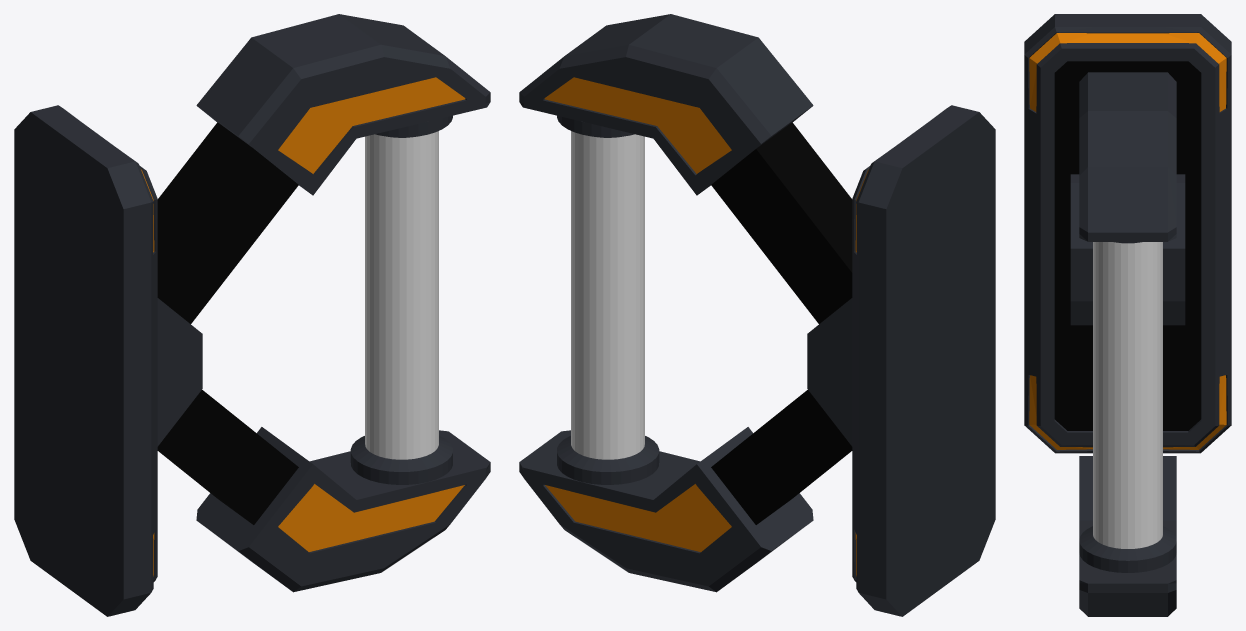
The model's file is SM_Light.fbx.
The picture shows the model from 3 angles, left to right: view 1: azimuth 30°, elevation 25°; view 2: azimuth 150°, elevation 25°; view 3: azimuth 270°, elevation 25°; orthographic projection. The views are drawn at different scales.
Visible parts, largest first — view 1: SM_Light; view 2: SM_Light; view 3: SM_Light.
Boxes of the visible parts, x1,y1,x2,y2 form: SM_Light: (14, 14, 490, 616); SM_Light: (519, 14, 995, 616); SM_Light: (1024, 14, 1231, 616).
Size of the model in its own units: 46.71 by 58.86 by 22.04.
